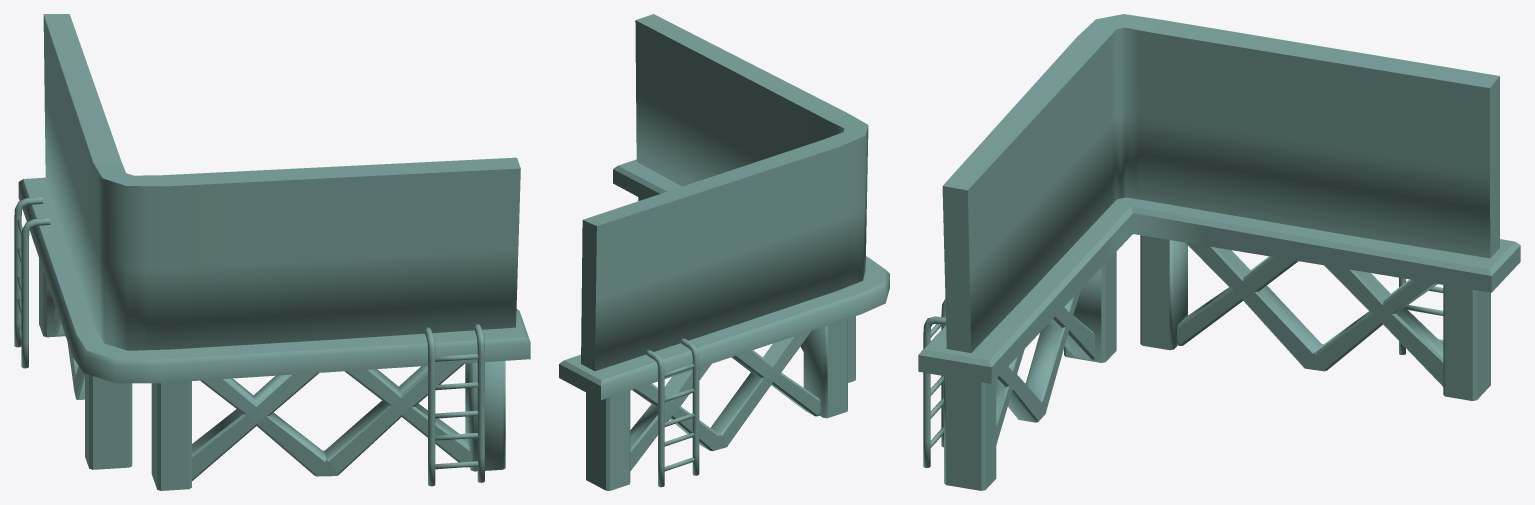
File: billboard curved.fbx
3 views of the same model, side by side, from view 1: azimuth 30°, elevation 25°; view 2: azimuth 150°, elevation 25°; view 3: azimuth 270°, elevation 25° (orthographic). The views are drawn at different scales.
Parts seen in each view (by area): view 1: billboard curved; view 2: billboard curved; view 3: billboard curved.
Part boxes in pixels (x1,y1,x2,y2): billboard curved: (14, 14, 530, 490); billboard curved: (559, 14, 889, 490); billboard curved: (918, 14, 1520, 490).
Bounding box in the file's own units: 1055 × 822 × 1433.
